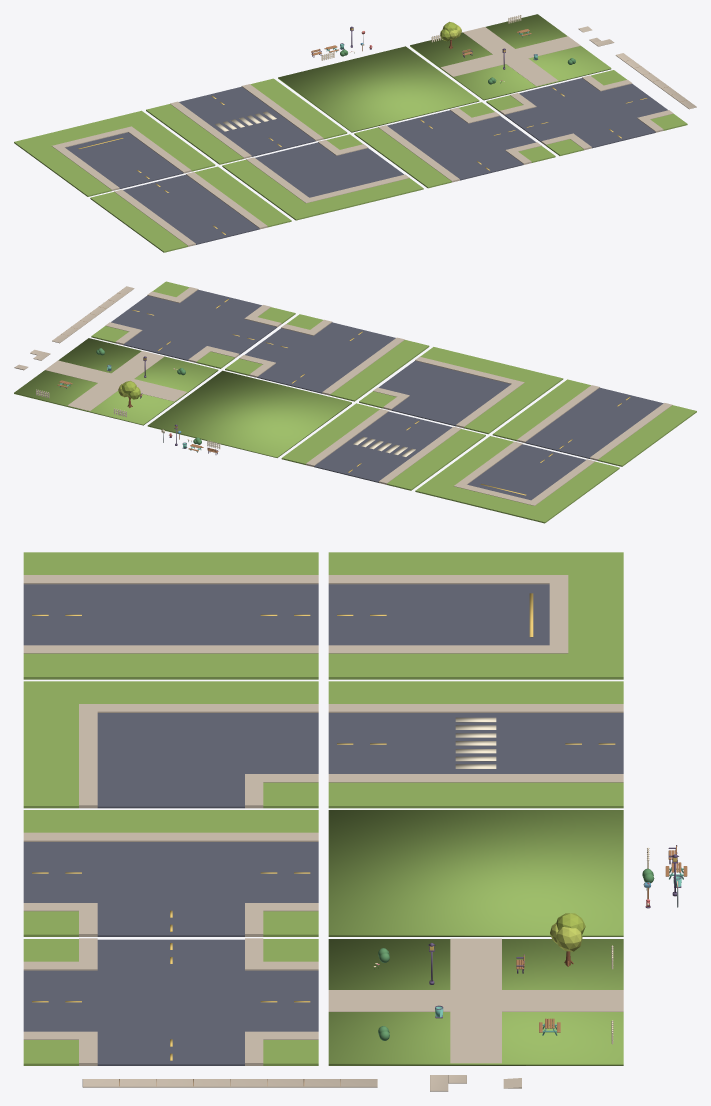
File: RoadAndParkKit.glb
3 views of the same model, one above another, from view 1: azimuth 30°, elevation 25°; view 2: azimuth 150°, elevation 25°; view 3: azimuth 270°, elevation 25° (orthographic). The views are drawn at different scales.
Visible parts, largest first — view 1: Road_DeadEnd_Mesh, Grass_Cell_Mesh, Road_Crosswalk_Mesh, Road_Straight_Mesh, Road_Corner_Mesh, Road_TJunction_Mesh, Road_Crossroads_Mesh, Park lawn, Park continuous crossing, Sidewalk_Straight_Mesh; view 2: Road_Corner_Mesh, Road_DeadEnd_Mesh, Road_Crosswalk_Mesh, Road_Straight_Mesh, Road_TJunction_Mesh, Road_Crossroads_Mesh, Grass_Cell_Mesh, Park lawn, Park continuous crossing, Sidewalk_Straight_Mesh; view 3: Road_Straight_Mesh, Road_DeadEnd_Mesh, Road_Corner_Mesh, Road_Crosswalk_Mesh, Road_Crossroads_Mesh, Road_TJunction_Mesh, Grass_Cell_Mesh, Park lawn, Park continuous crossing, Sidewalk_Straight_Mesh, ParkMaple_Tree_Roundmaple_Mesh.
Boxes of the visible parts, <box> form: Road_DeadEnd_Mesh: <box>14,110,215,196</box>; Grass_Cell_Mesh: <box>278,46,479,132</box>; Road_Crosswalk_Mesh: <box>146,78,347,164</box>; Road_Straight_Mesh: <box>90,166,291,252</box>; Road_Corner_Mesh: <box>222,134,423,220</box>; Road_TJunction_Mesh: <box>354,102,555,188</box>; Road_Crossroads_Mesh: <box>486,70,687,155</box>; Park lawn: <box>410,14,611,100</box>; Park continuous crossing: <box>440,27,580,86</box>; Sidewalk_Straight_Mesh: <box>615,53,696,109</box>; Road_Corner_Mesh: <box>359,347,563,434</box>; Road_DeadEnd_Mesh: <box>415,436,619,523</box>; Road_Crosswalk_Mesh: <box>281,403,485,490</box>; Road_Straight_Mesh: <box>492,379,696,466</box>; Road_TJunction_Mesh: <box>225,314,429,401</box>; Road_Crossroads_Mesh: <box>91,281,295,368</box>; Grass_Cell_Mesh: <box>147,370,351,457</box>; Park lawn: <box>14,338,218,425</box>; Park continuous crossing: <box>45,351,186,410</box>; Sidewalk_Straight_Mesh: <box>52,286,134,343</box>; Road_Straight_Mesh: <box>23,552,318,679</box>; Road_DeadEnd_Mesh: <box>328,552,623,679</box>; Road_Corner_Mesh: <box>23,681,318,808</box>; Road_Crosswalk_Mesh: <box>328,681,623,808</box>; Road_Crossroads_Mesh: <box>23,938,318,1065</box>; Road_TJunction_Mesh: <box>23,810,318,936</box>; Grass_Cell_Mesh: <box>328,810,623,936</box>; Park lawn: <box>328,939,623,1065</box>; Park continuous crossing: <box>328,938,623,1063</box>; Sidewalk_Straight_Mesh: <box>82,1079,377,1087</box>; ParkMaple_Tree_Roundmaple_Mesh: <box>550,913,585,966</box>.
Bounding box in the file's own units: 104 × 4.88 × 53.98.
